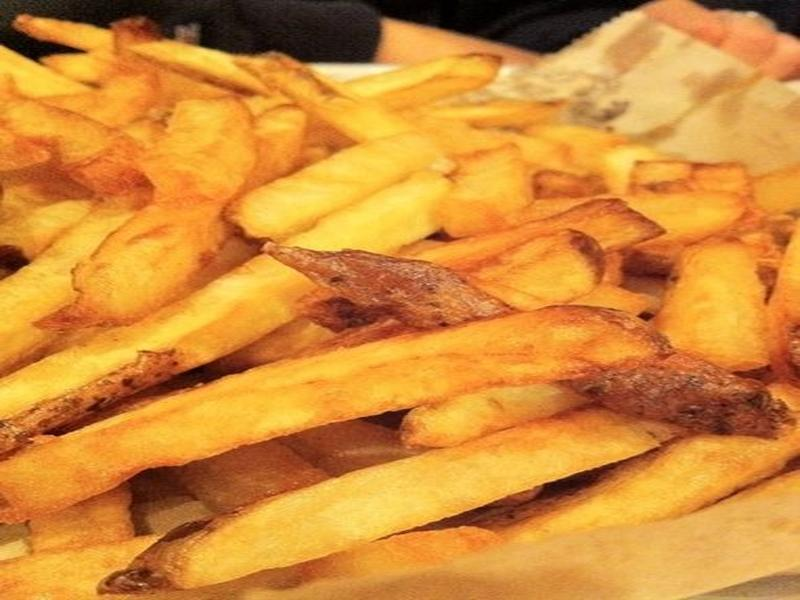french_fries: (28, 25, 800, 598)
